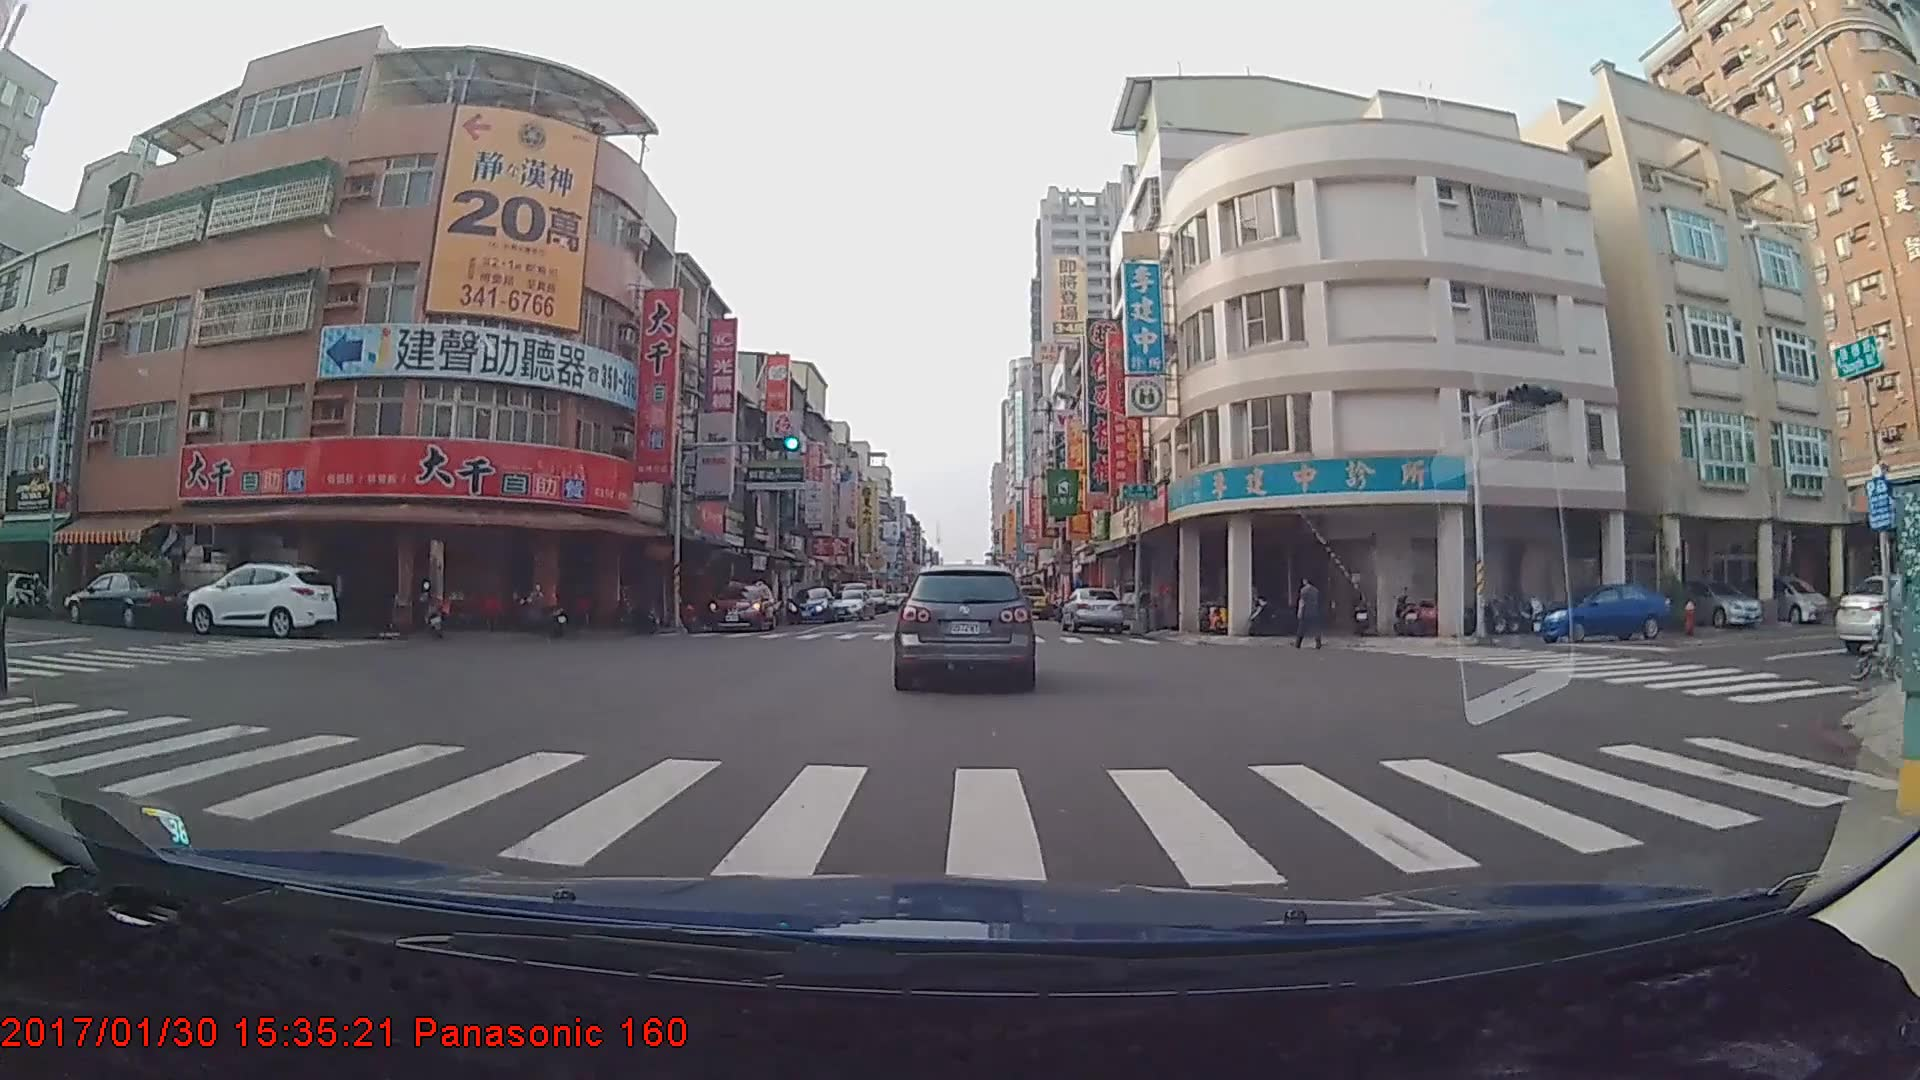pedestrian: (1293, 580, 1324, 652)
vehicle: (895, 562, 1035, 691), (183, 561, 335, 637), (1533, 582, 1671, 643), (66, 568, 188, 631), (1656, 574, 1764, 628), (1734, 568, 1832, 626), (707, 578, 776, 631), (1057, 584, 1124, 631), (785, 585, 837, 624), (825, 588, 876, 619), (1011, 583, 1049, 618)
